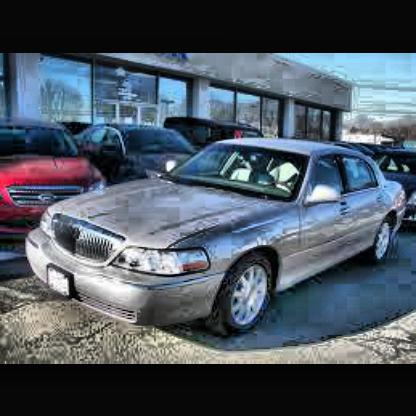Lincoln Town Car Sedan 2011: (26, 137, 416, 332)
